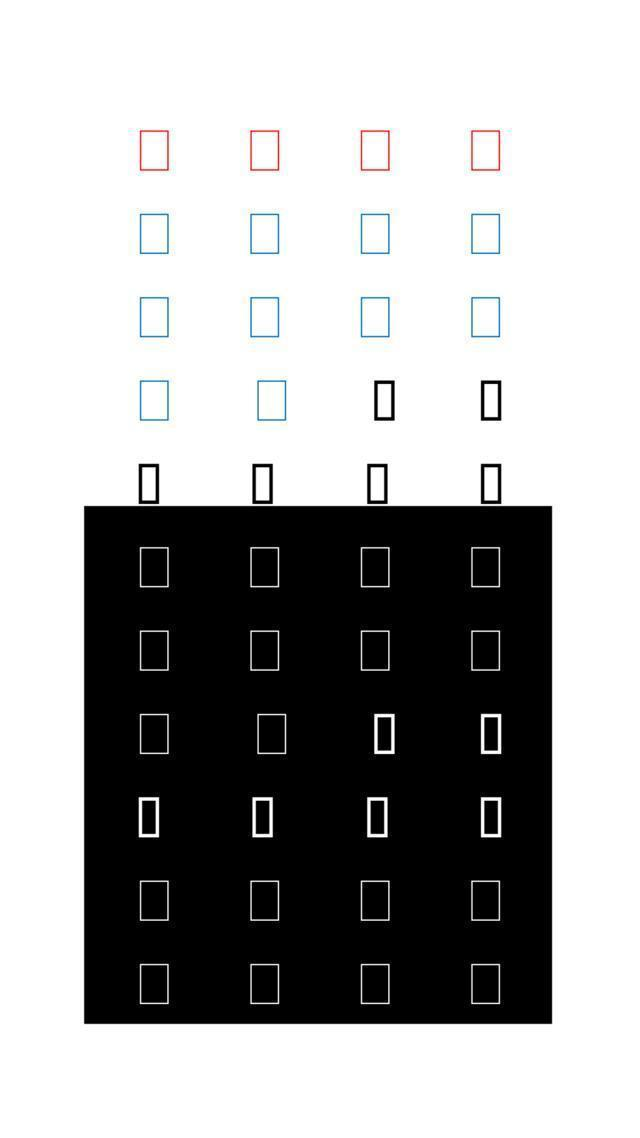ASCII: (248, 878, 280, 924), (138, 129, 172, 172), (358, 879, 392, 922), (469, 129, 502, 173), (359, 212, 392, 256), (138, 878, 170, 923), (359, 546, 392, 589), (469, 962, 502, 1005), (248, 129, 280, 173), (138, 295, 170, 338), (138, 212, 170, 254), (138, 380, 170, 422), (248, 546, 280, 588), (470, 546, 502, 588), (359, 630, 391, 672), (470, 880, 502, 922), (138, 963, 170, 1005), (249, 296, 280, 339), (470, 296, 501, 339), (359, 130, 391, 171), (138, 714, 170, 755), (256, 380, 287, 422), (471, 212, 502, 254), (139, 547, 170, 589), (250, 962, 280, 1005), (470, 629, 500, 672), (360, 962, 390, 1005), (360, 296, 390, 338), (250, 629, 280, 671), (139, 630, 169, 671), (250, 212, 278, 254), (138, 795, 163, 842), (250, 796, 276, 840), (257, 714, 286, 752), (479, 379, 504, 422), (137, 462, 162, 504), (479, 462, 503, 505), (365, 463, 388, 506), (480, 713, 502, 756), (366, 796, 388, 839), (373, 713, 395, 755), (374, 379, 396, 421), (480, 796, 502, 838), (252, 462, 273, 505)
